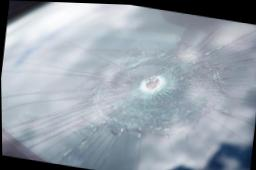Windshield: (1, 0, 256, 170)
